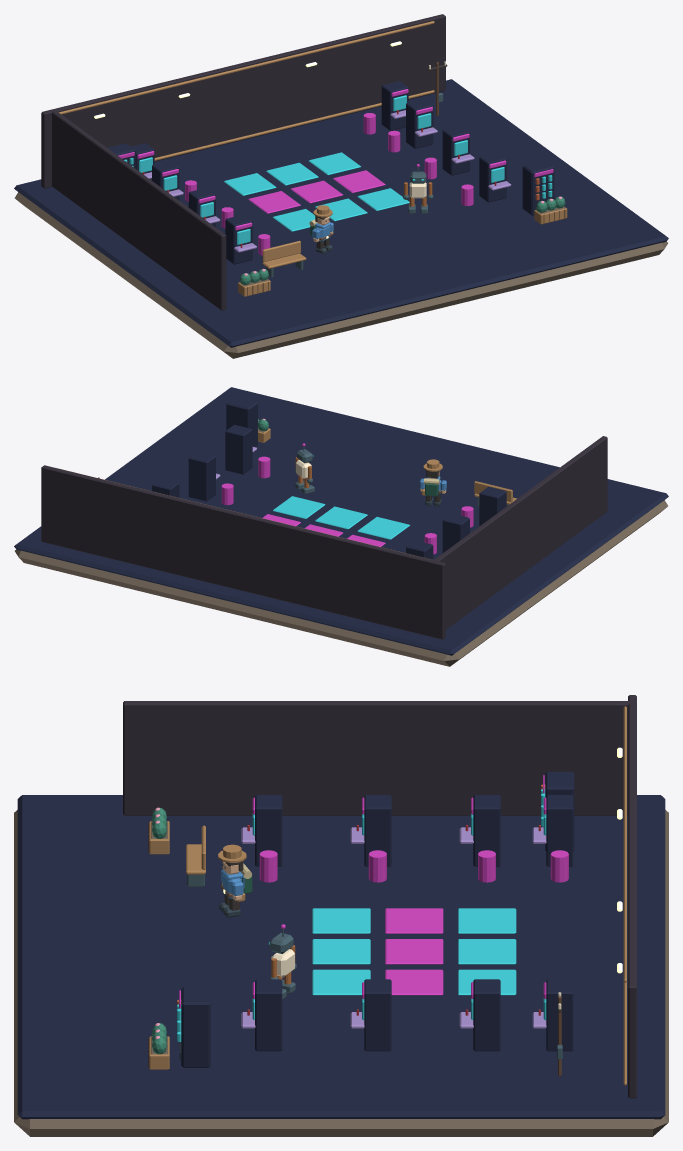
Rendered from world-arcade.glb.
3 views of the same model, one above another, from view 1: azimuth 30°, elevation 25°; view 2: azimuth 150°, elevation 25°; view 3: azimuth 270°, elevation 25° (orthographic). The views are drawn at different scales.
Visible parts, largest first — view 1: terrain-top, rear-wall, side-wall, terrain-stratum, interior-trim.001, vending-body.002, arcade-body.006, arcade-body.005, arcade-body.007, arcade-body.001, interior-trim, arcade-body.008 (+10 smaller); view 2: terrain-top, rear-wall, side-wall, terrain-stratum, arcade-body.006, arcade-body.005, vending-body.002, arcade-body.002, arcade-body.001, dance-tile.003, dance-tile, dance-tile.006; view 3: terrain-top, side-wall, terrain-stratum, rear-wall, vending-body.002, arcade-body.006, arcade-body.005, arcade-body.007, arcade-body.008, arcade-body.001, arcade-body.002, arcade-body.004 (+12 smaller).
Part boxes in pixels (bbox=[...]): terrain-top: bbox=[14, 79, 668, 347]; rear-wall: bbox=[41, 14, 445, 188]; side-wall: bbox=[52, 110, 226, 310]; terrain-stratum: bbox=[14, 192, 667, 358]; interior-trim.001: bbox=[59, 21, 434, 114]; vending-body.002: bbox=[522, 160, 554, 215]; arcade-body.006: bbox=[442, 125, 469, 175]; arcade-body.005: bbox=[479, 152, 506, 202]; arcade-body.007: bbox=[406, 99, 433, 148]; arcade-body.001: bbox=[225, 214, 252, 264]; interior-trim: bbox=[154, 90, 434, 160]; arcade-body.008: bbox=[381, 81, 408, 130]; terrain-top: bbox=[14, 387, 668, 655]; rear-wall: bbox=[41, 465, 445, 639]; side-wall: bbox=[433, 436, 607, 629]; terrain-stratum: bbox=[15, 500, 667, 666]; arcade-body.006: bbox=[188, 451, 215, 501]; arcade-body.005: bbox=[225, 424, 252, 474]; vending-body.002: bbox=[226, 397, 257, 446]; arcade-body.002: bbox=[442, 513, 469, 552]; arcade-body.001: bbox=[479, 486, 506, 526]; dance-tile.003: bbox=[315, 506, 367, 529]; dance-tile: bbox=[357, 517, 409, 539]; dance-tile.006: bbox=[273, 496, 325, 518]; terrain-top: bbox=[17, 795, 665, 1119]; side-wall: bbox=[123, 701, 630, 815]; terrain-stratum: bbox=[14, 810, 668, 1136]; rear-wall: bbox=[628, 695, 636, 1098]; vending-body.002: bbox=[181, 987, 210, 1067]; arcade-body.006: bbox=[364, 979, 391, 1051]; arcade-body.005: bbox=[255, 979, 282, 1051]; arcade-body.007: bbox=[473, 979, 500, 1051]; arcade-body.008: bbox=[546, 979, 573, 1051]; arcade-body.001: bbox=[255, 795, 282, 866]; arcade-body.002: bbox=[364, 795, 391, 866]; arcade-body.004: bbox=[546, 795, 573, 866].
Size of the model in its own units: 21 by 4.29 by 18.
